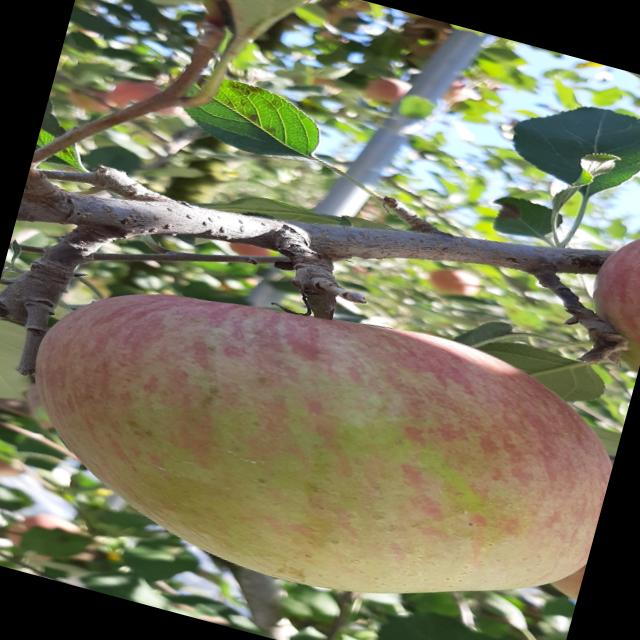fresh: (1, 227, 636, 640)
